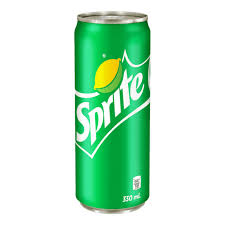sprite_can: (74, 12, 151, 214)
